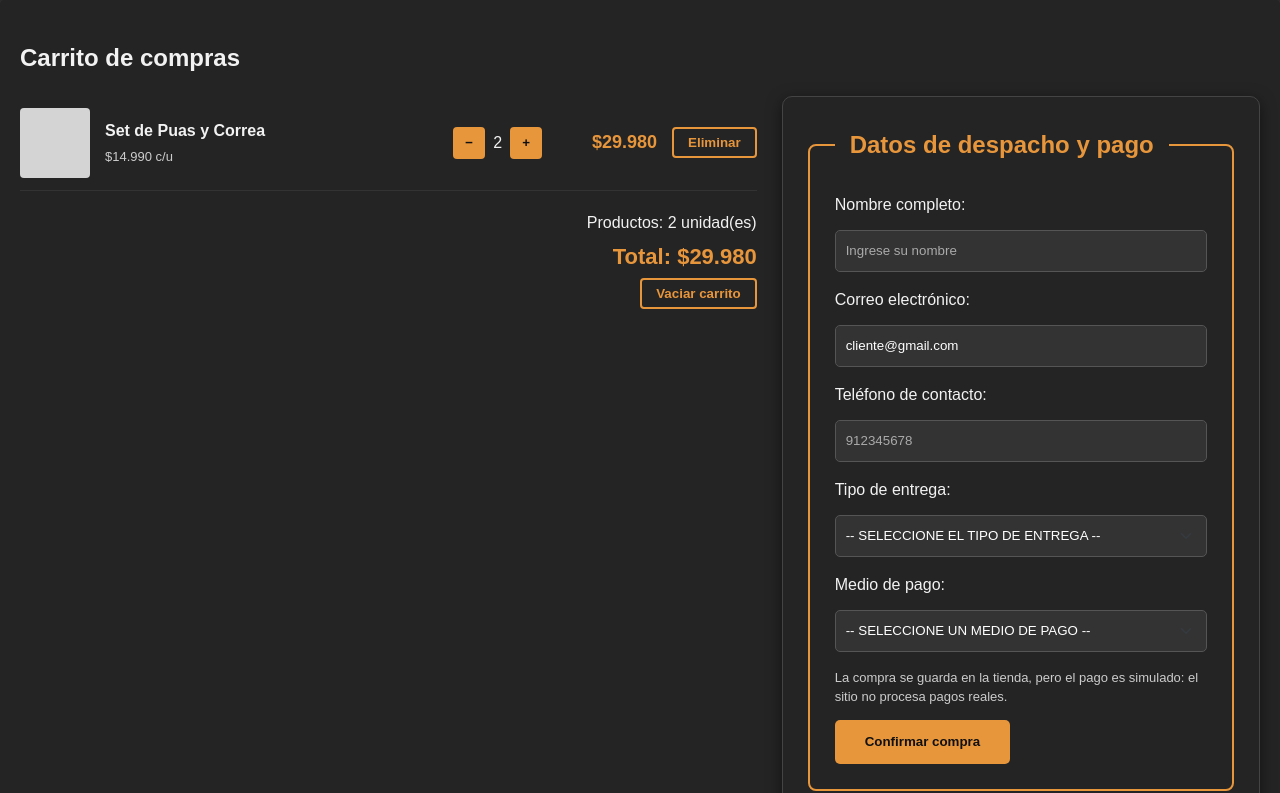
Test: Carrito › PU-045: si el backend responde 409 (sin stock) muestra su mensaje y no confirma la compra
Type "Camila Rojas" into the field labelled "Nombre completo:" at (1021, 251), box [835,230,1207,272]
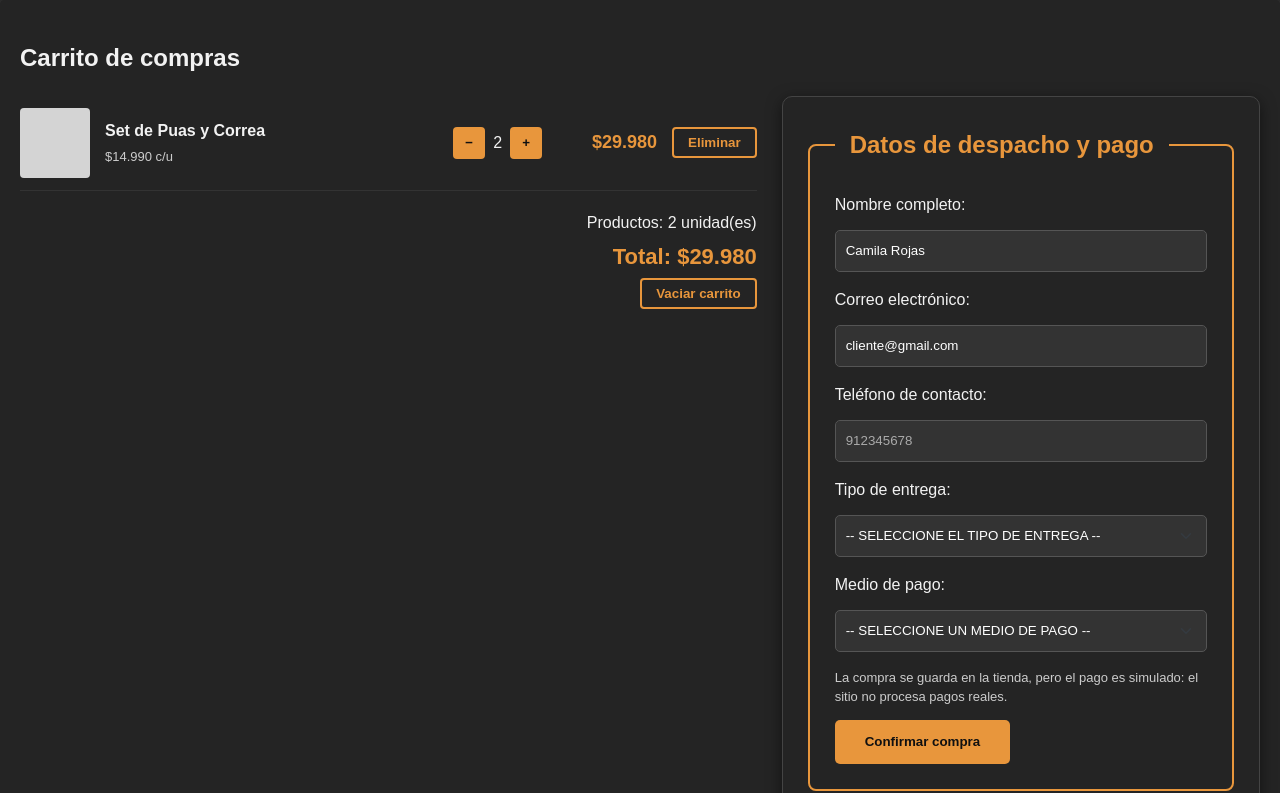
Type "987654321" into the field labelled "Teléfono de contacto:" at (1021, 441), box [835,420,1207,462]
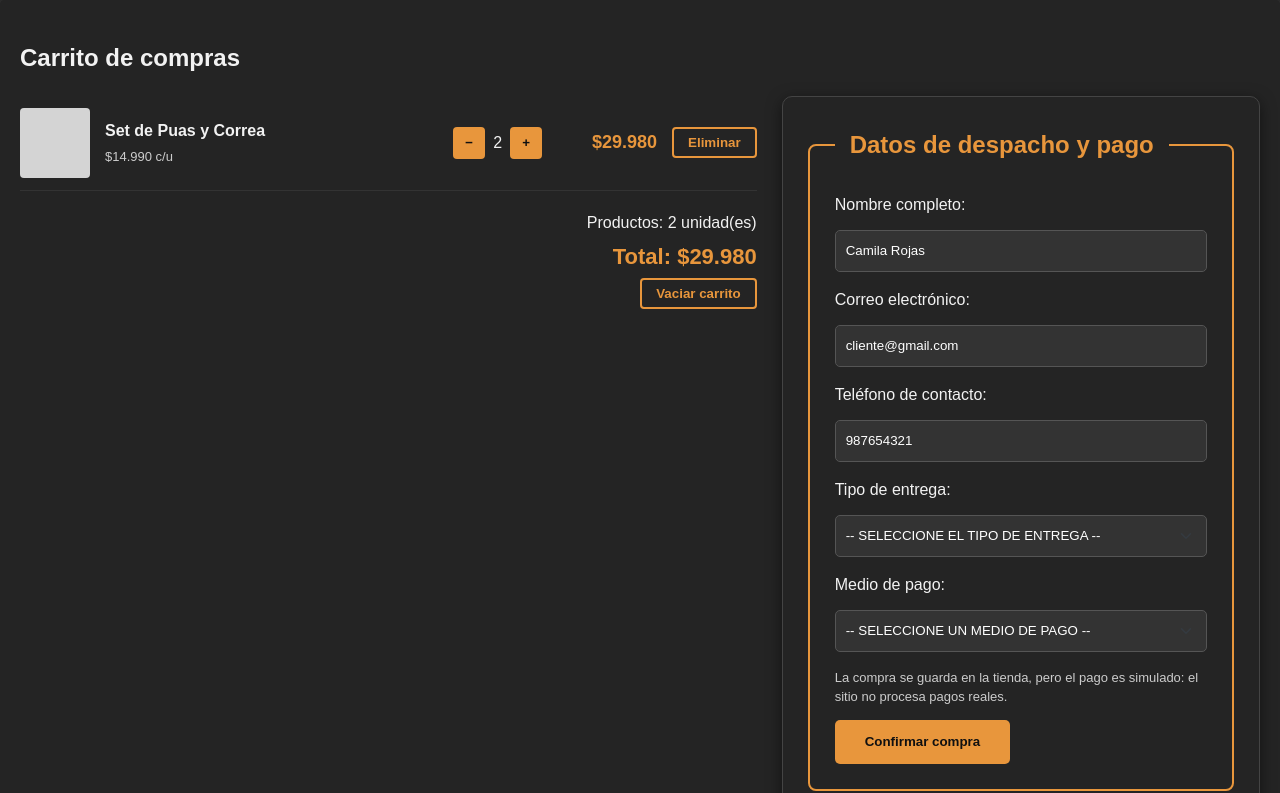
Select "Retiro en tienda (Viña del Mar)" in the dropdown labelled "Tipo de entrega:" at (1021, 536), box [835,515,1207,557]
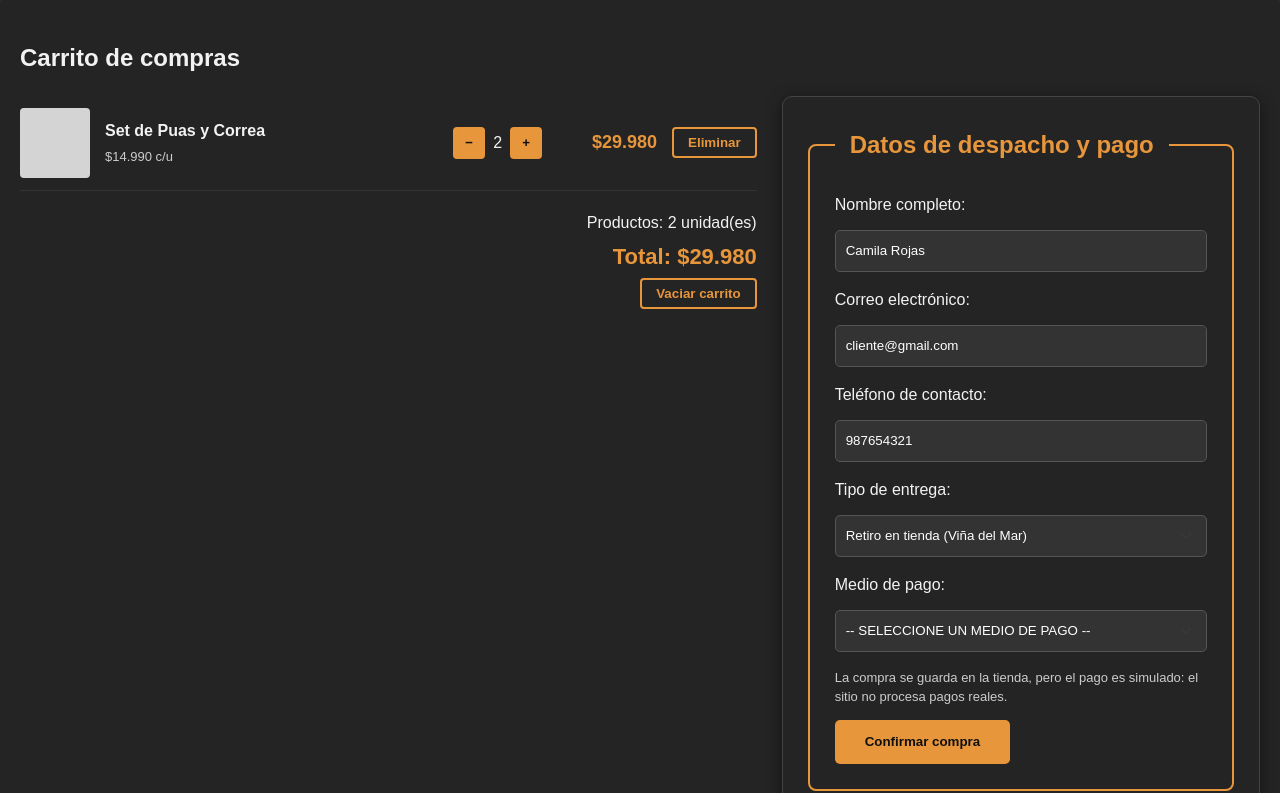
Select "Tarjeta de débito" in the dropdown labelled "Medio de pago:" at (1021, 631), box [835,610,1207,652]
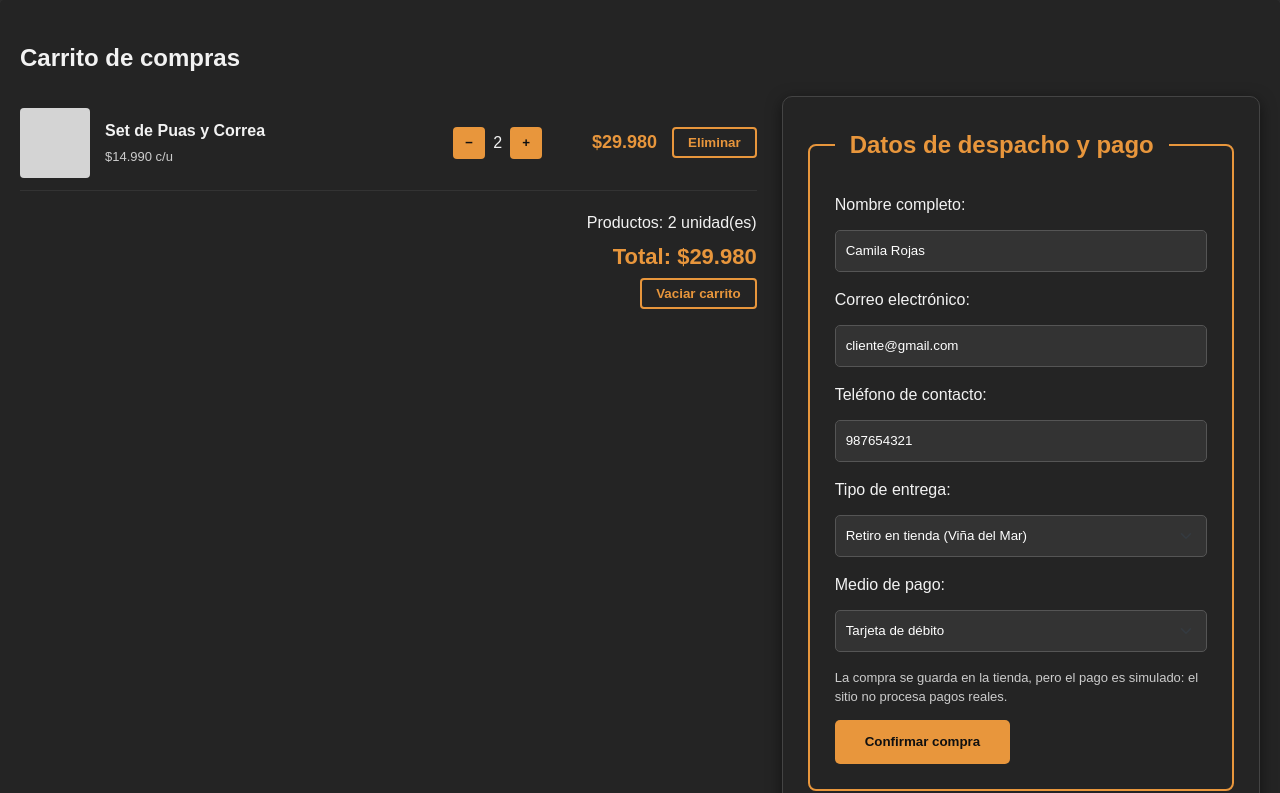
Click the button "Confirmar compra" at (922, 742), box [835,720,1010,764]
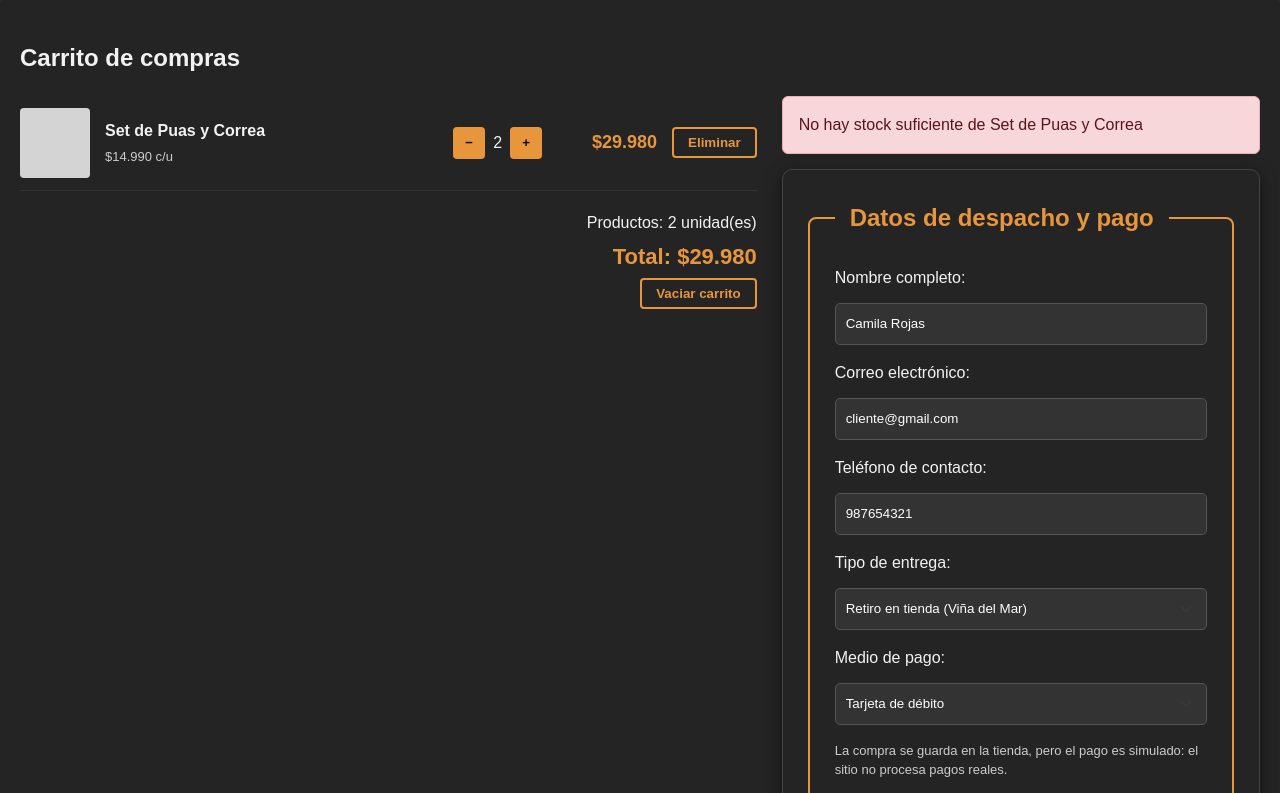
Expected: the text "No hay stock suficiente de Set de Puas y Correa" is shown, [782,96,1260,154]
